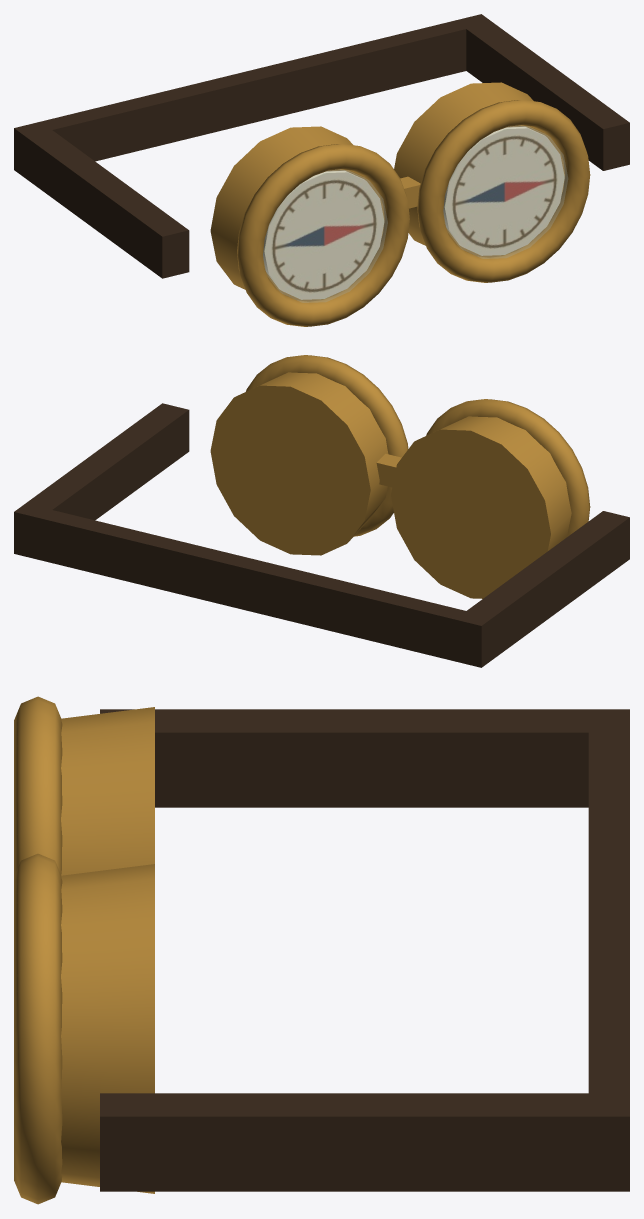
The model's file is gl_eqsa0.glb.
3 views of the same model, one above another, from view 1: azimuth 30°, elevation 25°; view 2: azimuth 150°, elevation 25°; view 3: azimuth 270°, elevation 25° (orthographic). The views are drawn at different scales.
Bounding box in the file's own units: 2.16 × 0.7854 × 1.38.
Materials: 5 (2 with a texture image).
